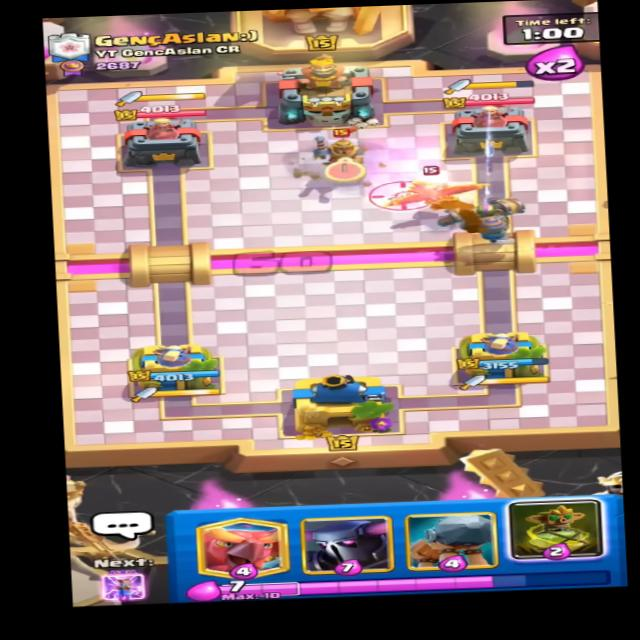Pheonix: (374, 165, 502, 220)
Prince: (302, 124, 378, 182)
